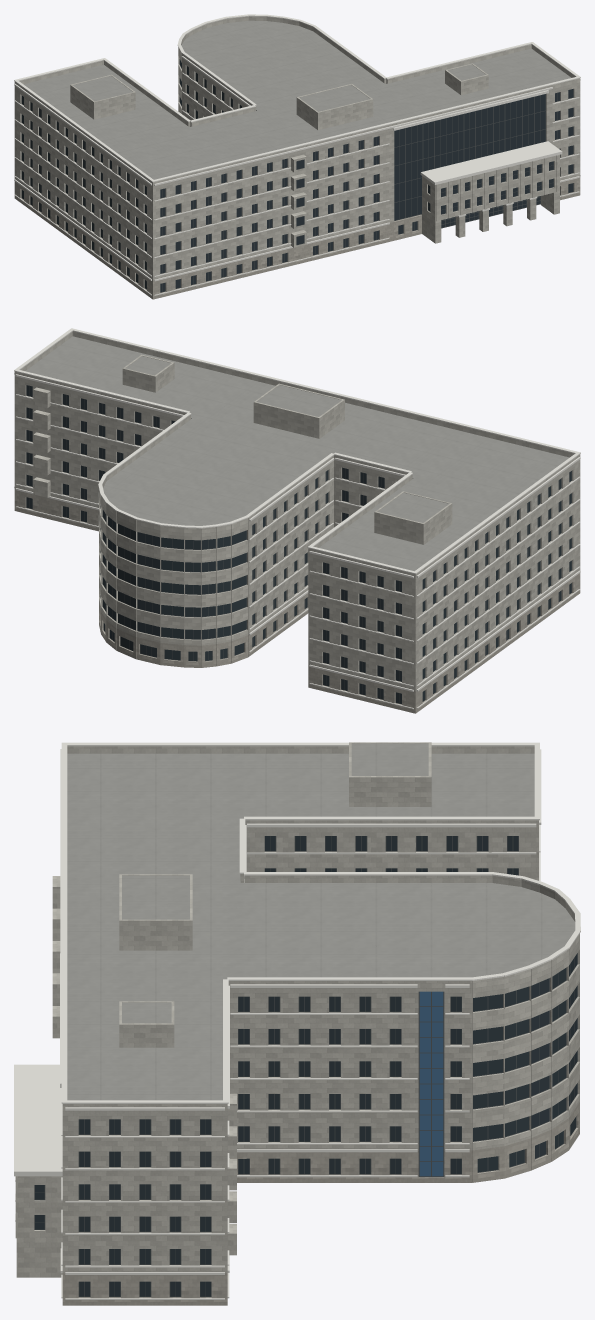
3 renders of one model, top to bottom at view 1: azimuth 30°, elevation 25°; view 2: azimuth 150°, elevation 25°; view 3: azimuth 270°, elevation 25°, orthographic. The views are drawn at different scales.
Parts seen in each view (by area): view 1: asanScience__stone, asanScience__roof, asanScience__glass, asanScience__trim, asanScience__rustic, asanScience__frame; view 2: asanScience__stone, asanScience__roof, asanScience__glass, asanScience__trim, asanScience__rustic, asanScience__frame; view 3: asanScience__roof, asanScience__stone, asanScience__trim, asanScience__glass, asanScience__rustic, asanScience__frame, asanScience__glassBlue.
Part boxes in pixels (x1,y1,x2,y2): asanScience__stone: (14, 16, 580, 280); asanScience__roof: (24, 20, 571, 179); asanScience__glass: (21, 59, 573, 292); asanScience__trim: (14, 14, 580, 295); asanScience__rustic: (14, 177, 580, 299); asanScience__frame: (22, 66, 573, 292); asanScience__stone: (14, 331, 580, 691); asanScience__roof: (25, 336, 569, 571); asanScience__glass: (26, 385, 571, 703); asanScience__trim: (14, 328, 580, 709); asanScience__rustic: (14, 488, 580, 713); asanScience__frame: (26, 385, 571, 704); asanScience__roof: (67, 743, 575, 1100); asanScience__stone: (15, 742, 579, 1277); asanScience__trim: (14, 742, 580, 1299); asanScience__glass: (35, 836, 577, 1296); asanScience__rustic: (62, 1102, 579, 1305); asanScience__frame: (34, 836, 577, 1297); asanScience__glassBlue: (419, 991, 443, 1176).
Size of the model in its own units: 93.04 by 27 by 61.73.
7 materials, 3 textured.
